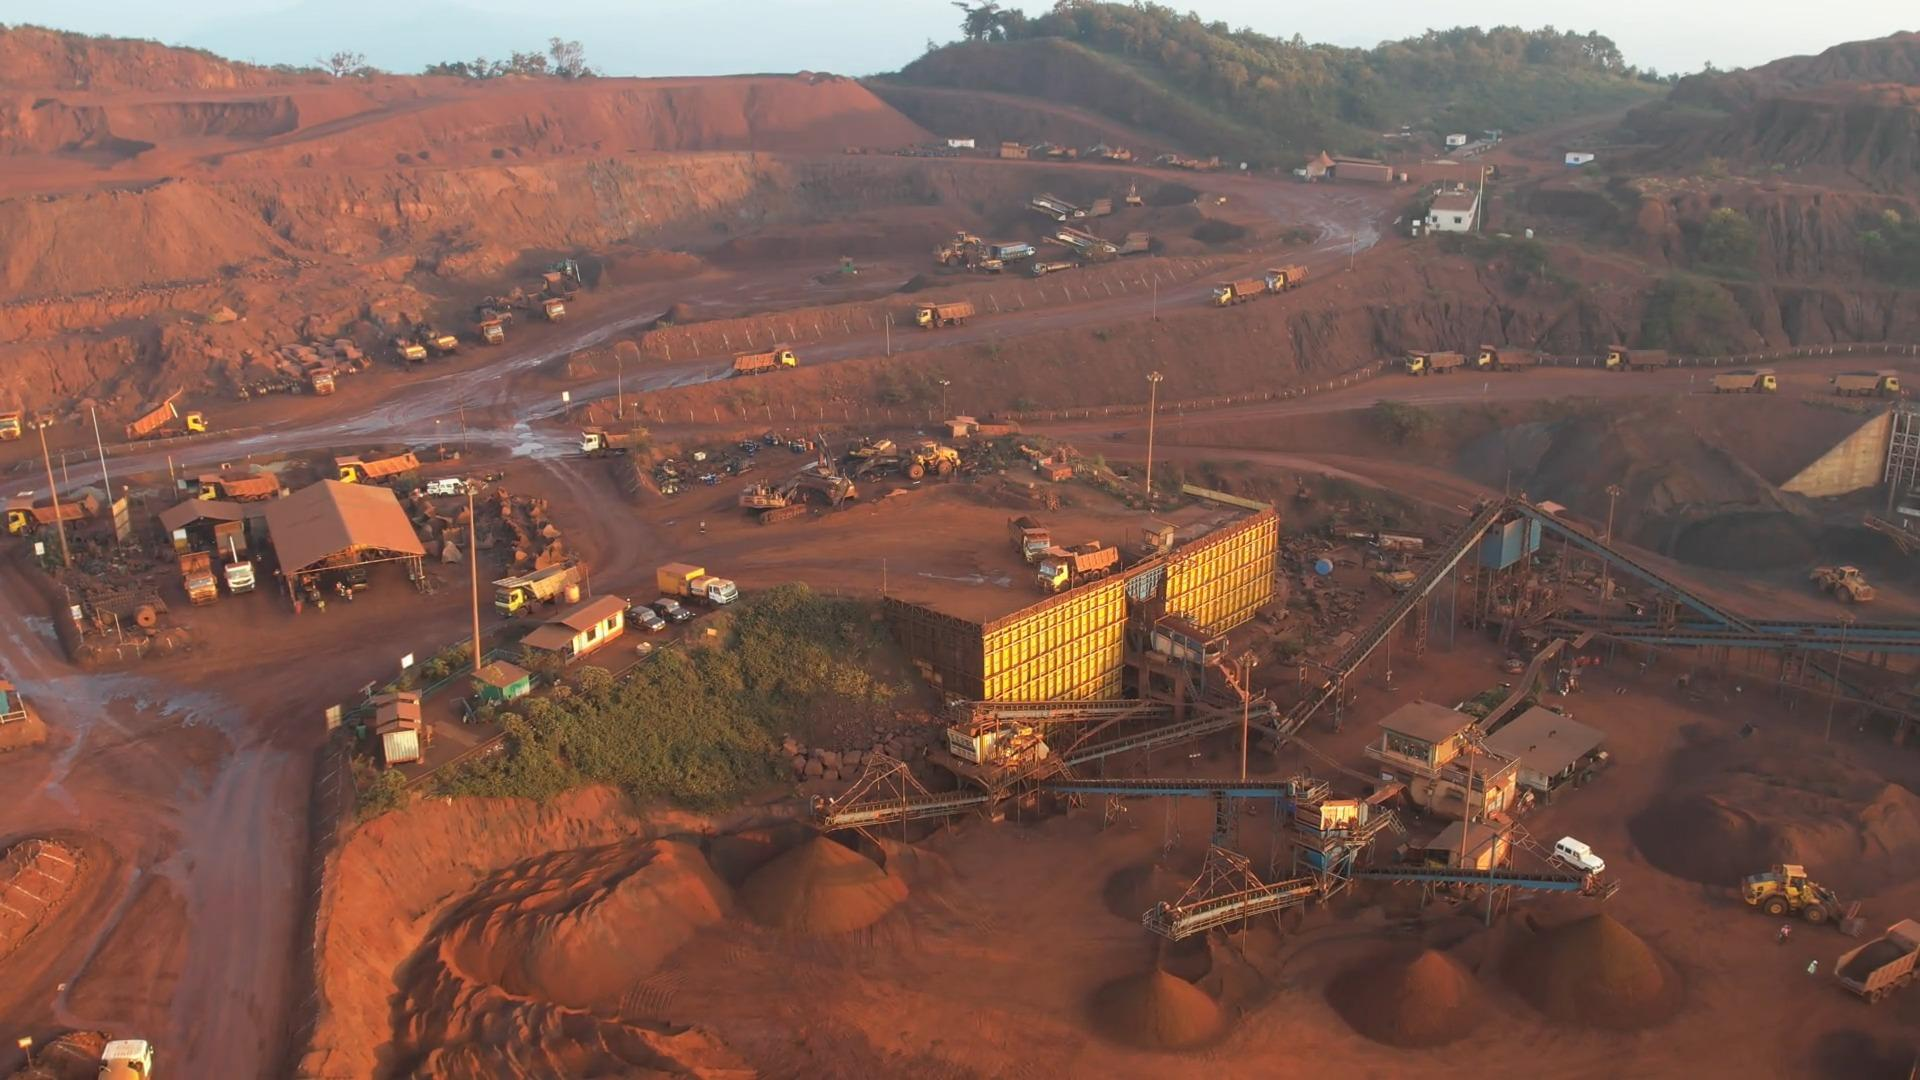excavator: (741, 483, 808, 521), (1370, 564, 1418, 595)
